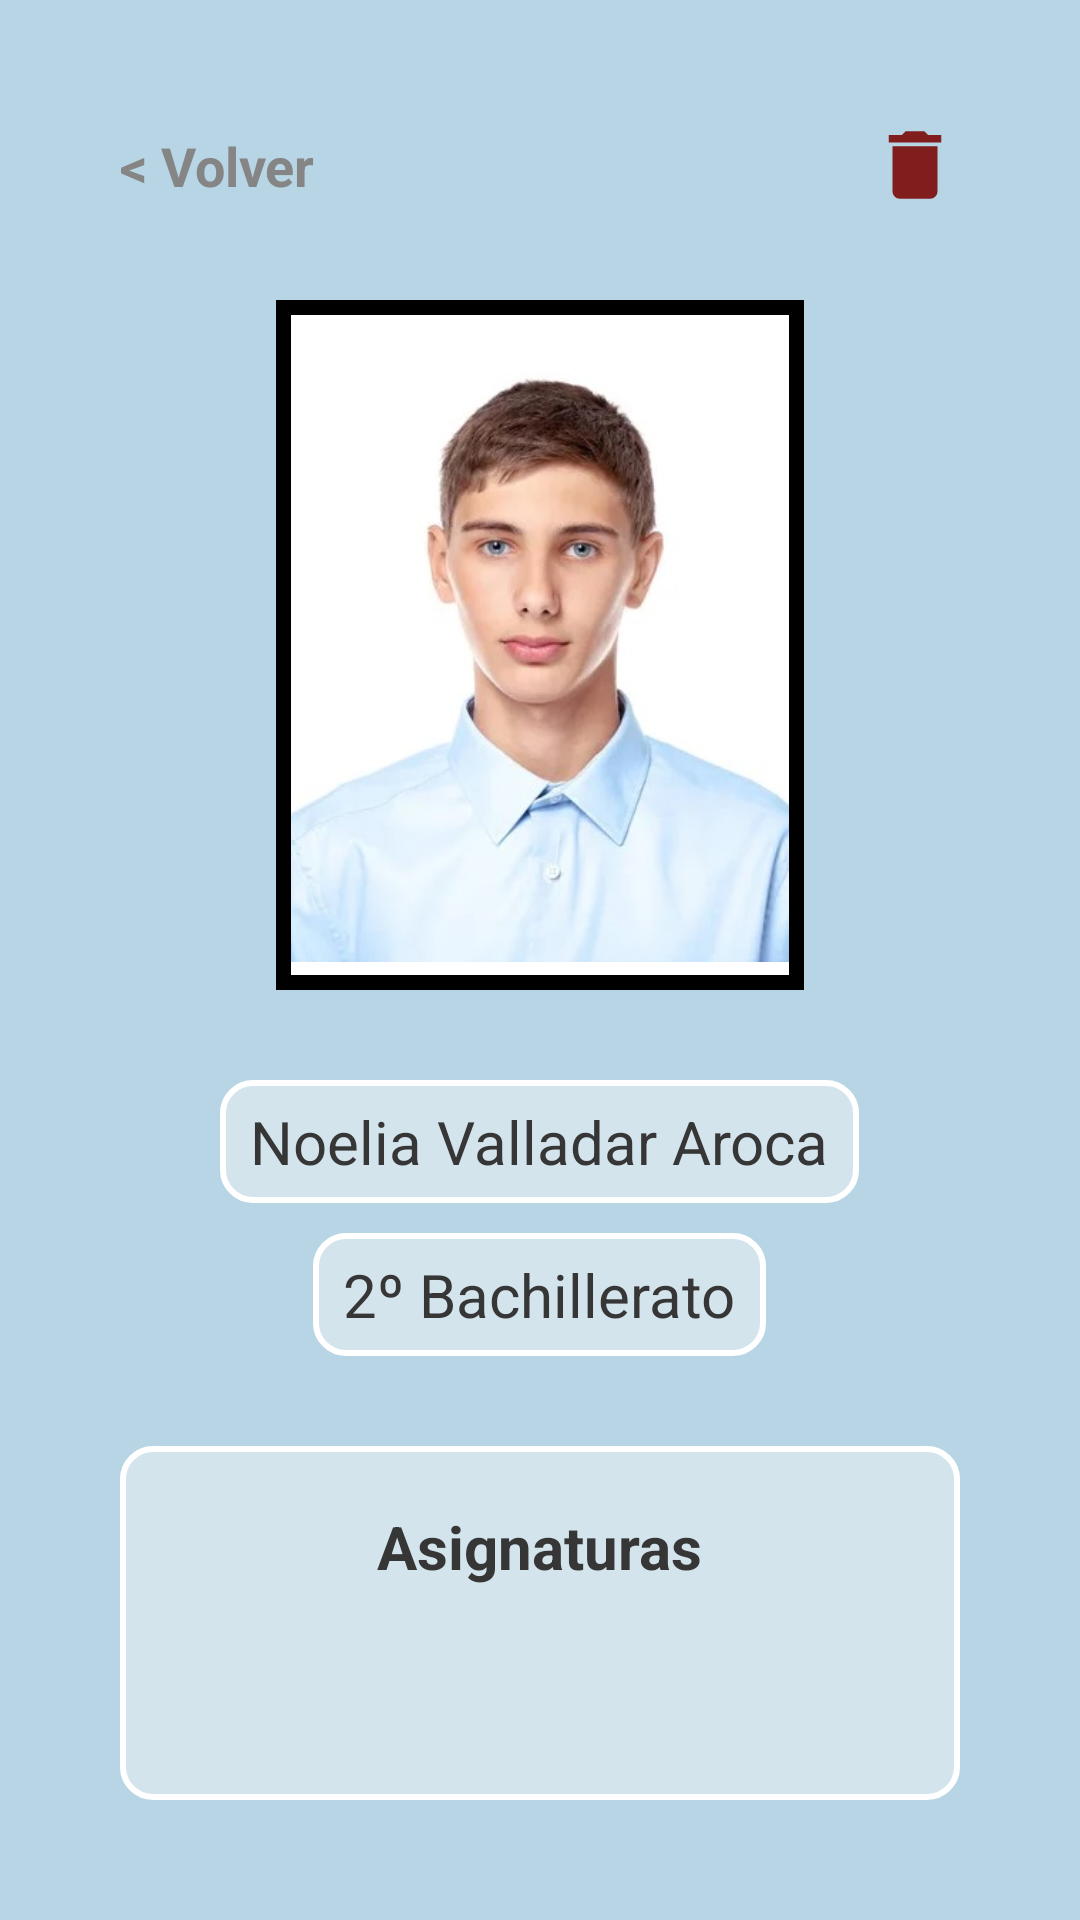

Where to tap for icons on this 1080 × 1920 app screen, as point (x, y):
eliminar: point (915, 165)
